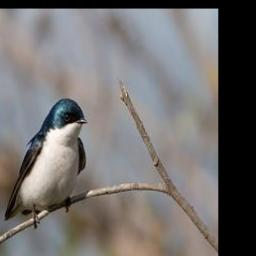Swallow: (3, 96, 86, 230)
